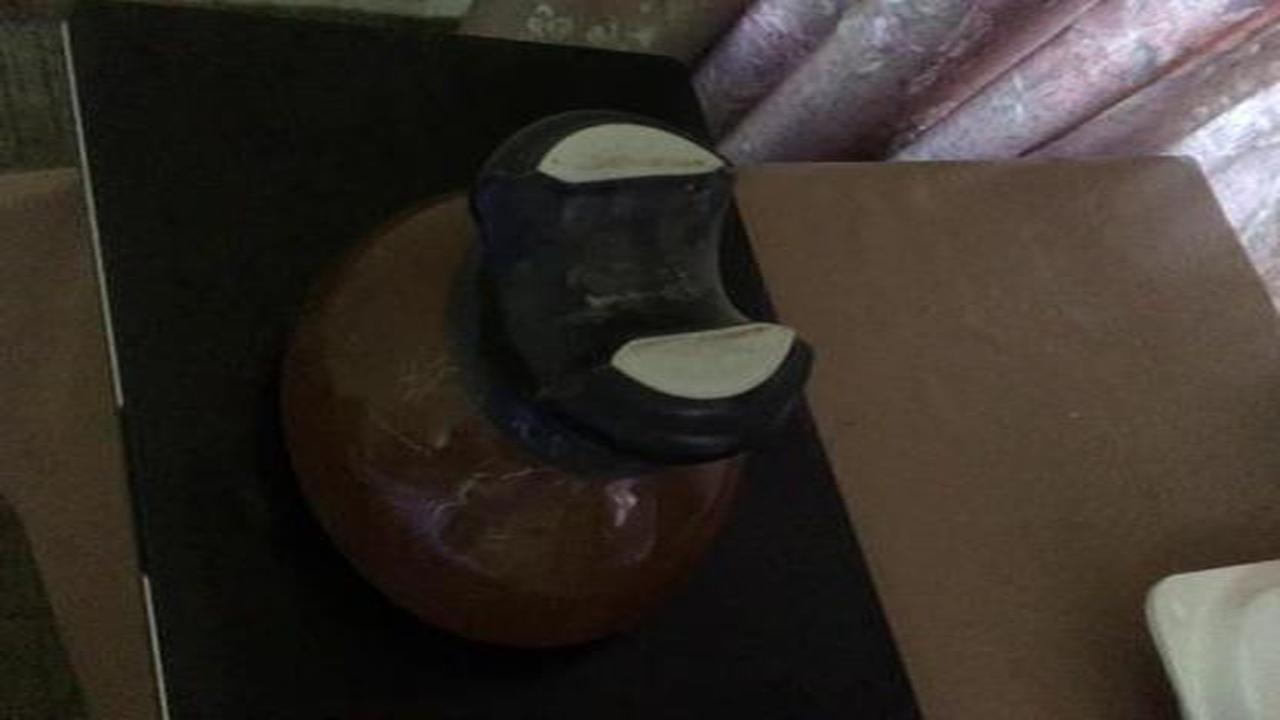insulator_pin: (262, 97, 822, 667)
